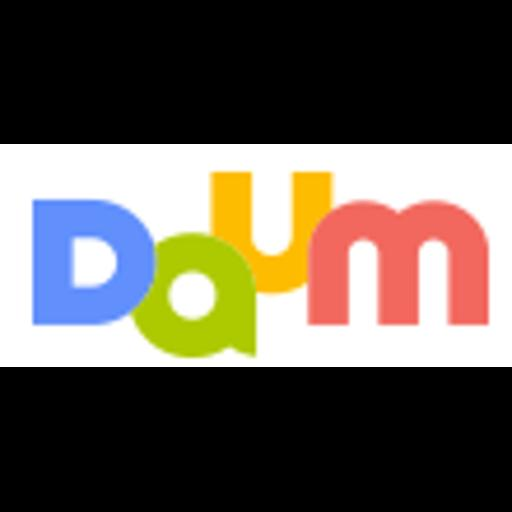Daum: (0, 144, 512, 367)
